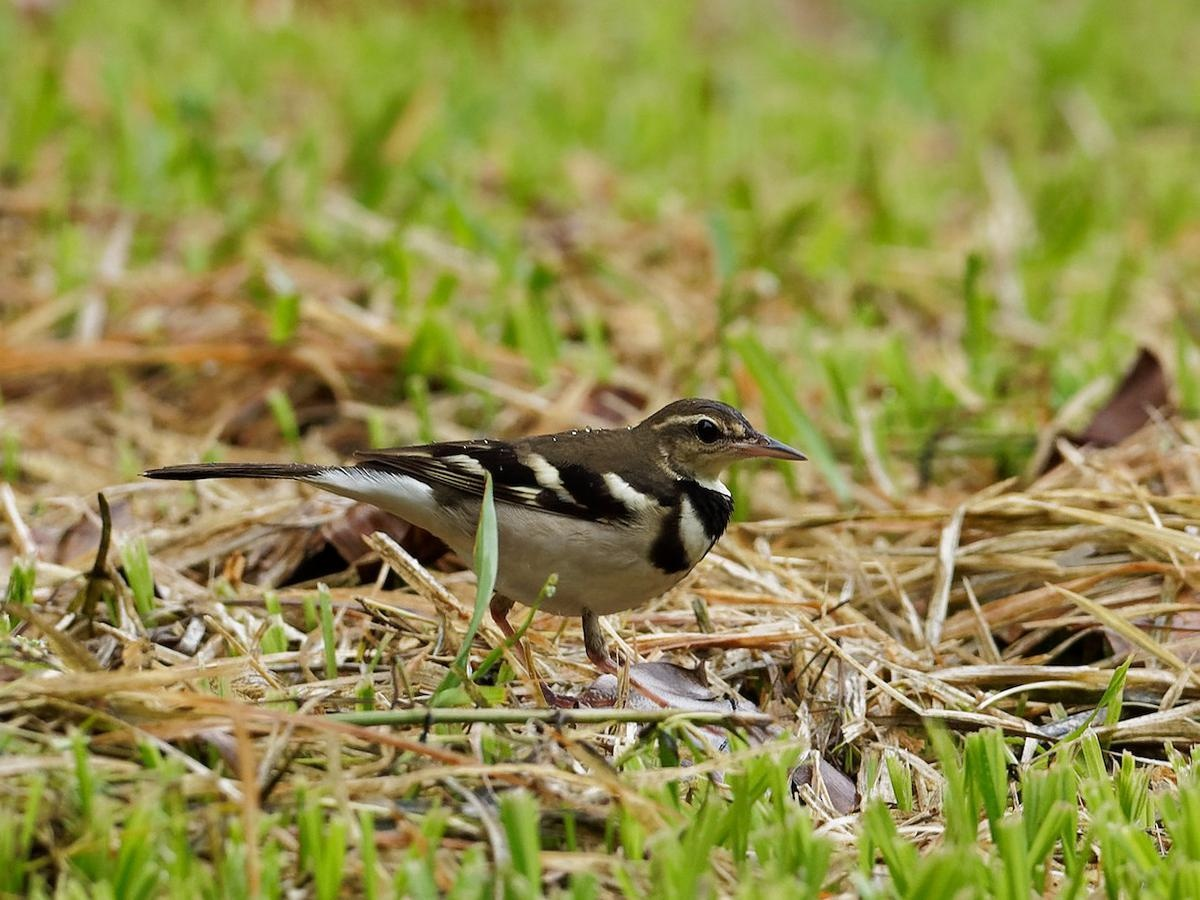wagtail: (247, 382, 864, 683)
